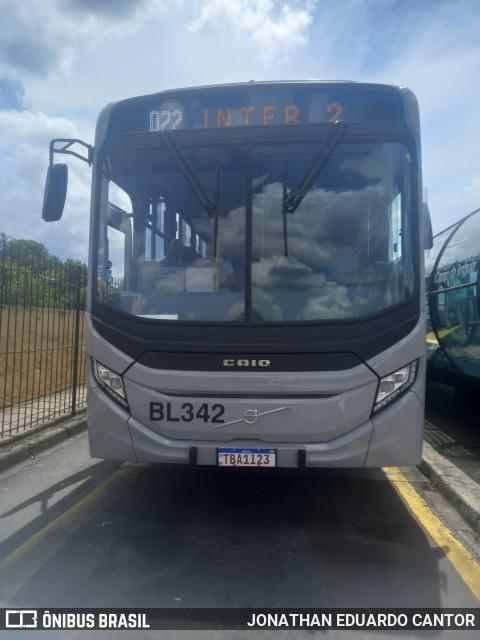INTER 2: (194, 98, 351, 133)
